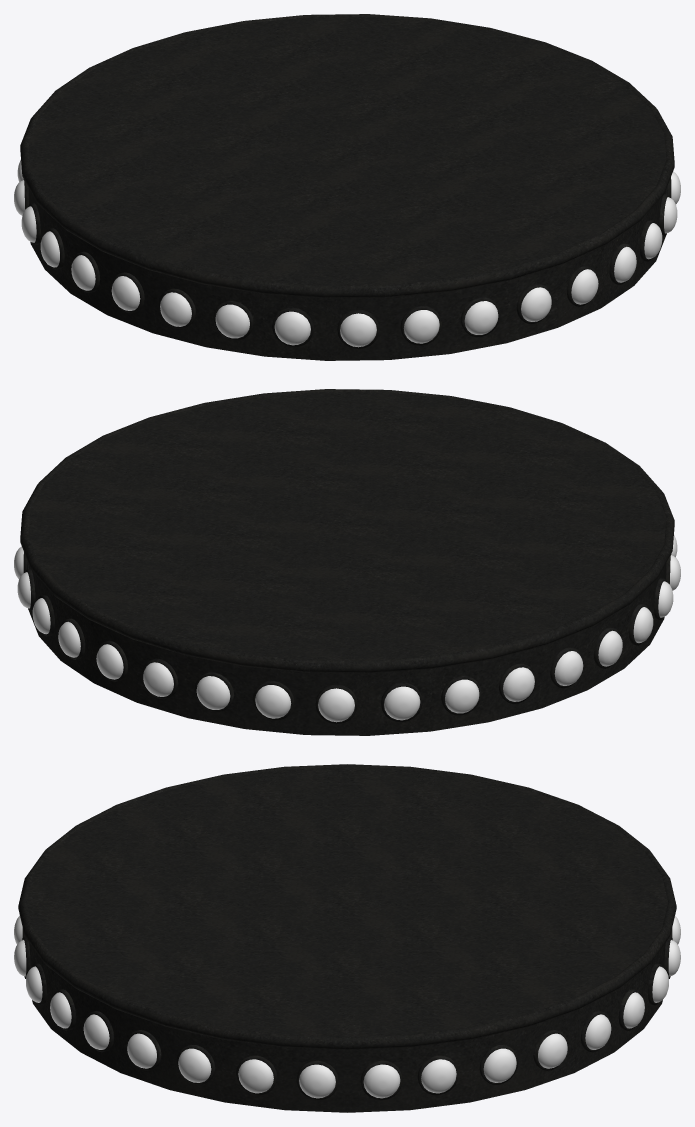
Rendered from Stage Full Black.fbx.
The picture shows the model from 3 angles, top to bottom: view 1: azimuth 30°, elevation 25°; view 2: azimuth 150°, elevation 25°; view 3: azimuth 270°, elevation 25°; orthographic projection.
Visible parts, largest first — view 1: Circle.003; view 2: Circle.003; view 3: Circle.003.
Boxes of the visible parts, x1,y1,x2,y2 form: Circle.003: [14, 14, 680, 360]; Circle.003: [14, 389, 680, 735]; Circle.003: [14, 764, 680, 1112].
Bounding box in the file's own units: 286 × 36.21 × 287.
